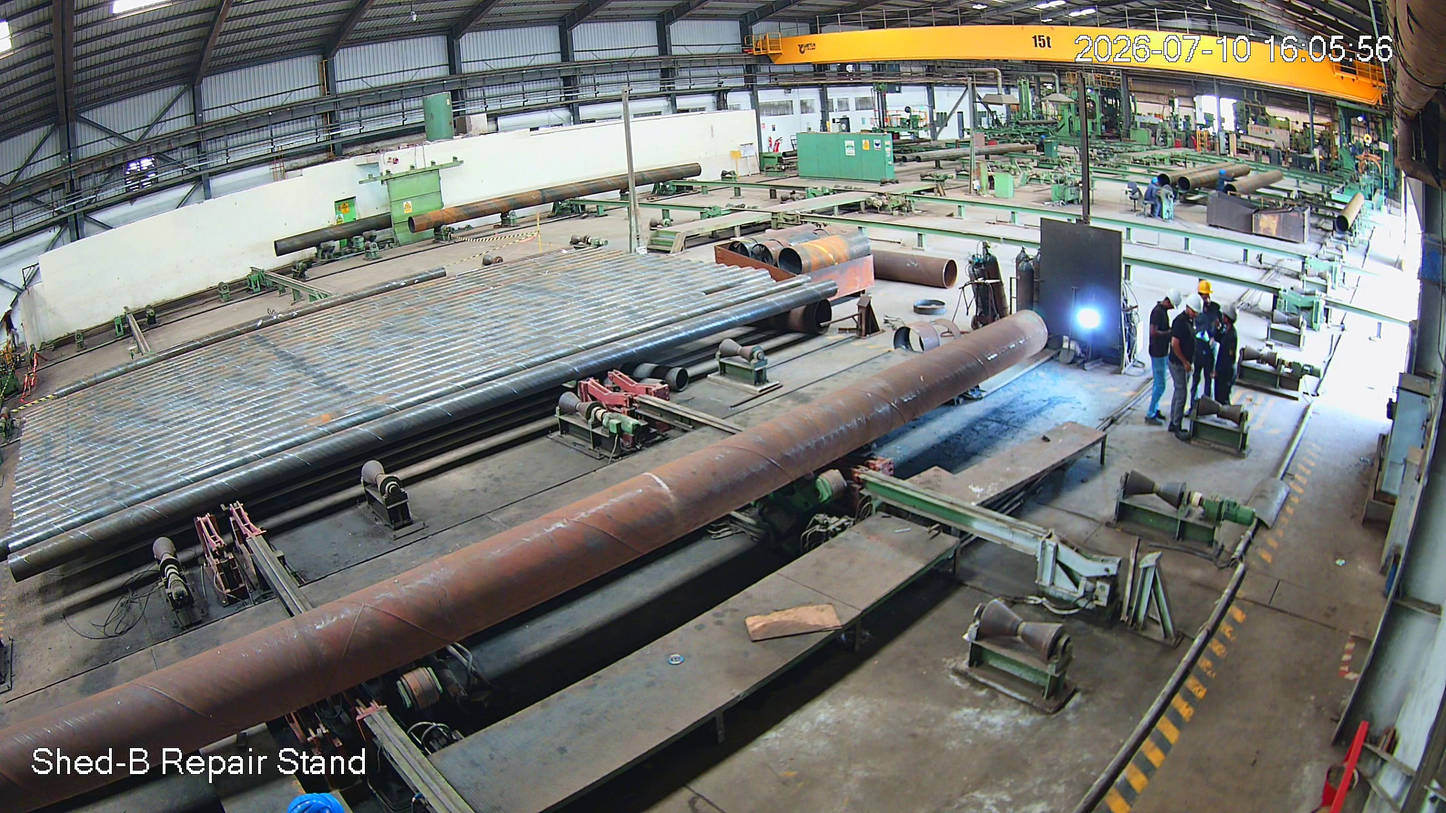Helmet: (1194, 275, 1220, 310), (1219, 302, 1243, 330), (1182, 291, 1203, 320), (1165, 281, 1182, 313)
Person: (1144, 286, 1184, 435), (1174, 293, 1206, 439), (1192, 280, 1228, 400), (1214, 305, 1242, 408)
